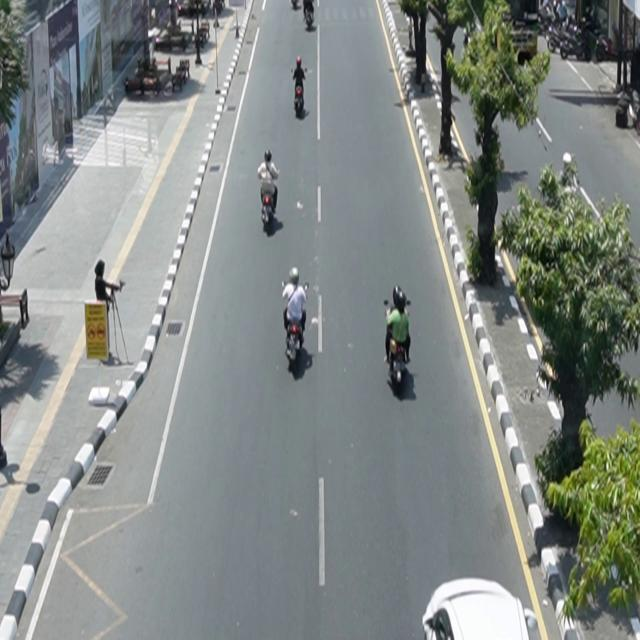car: (423, 578, 542, 640)
